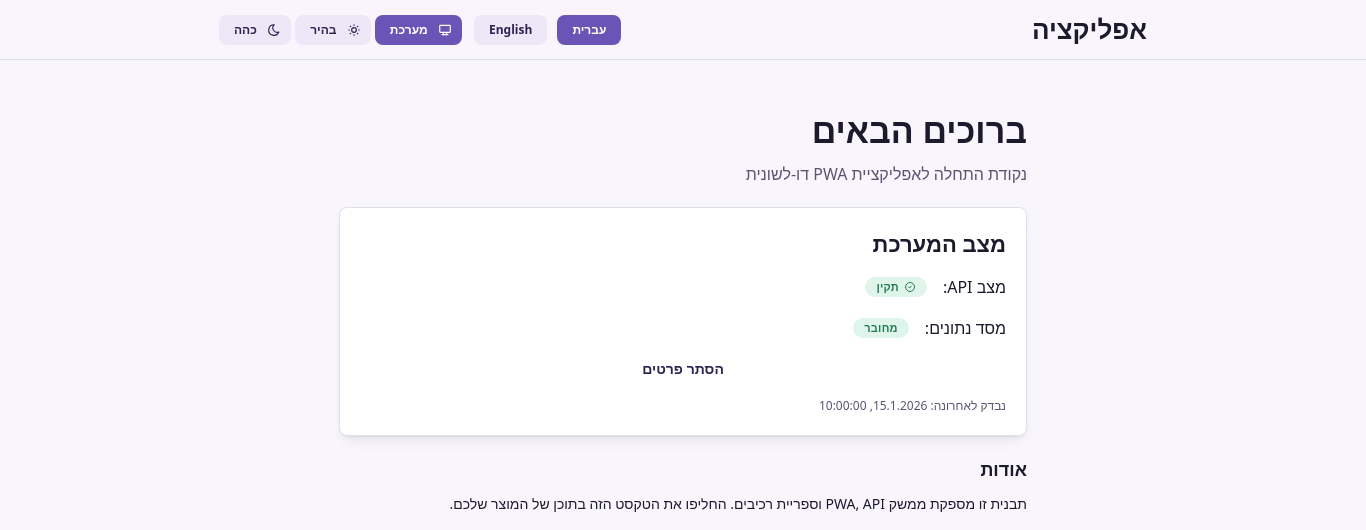
Test: App › switches visible copy from Hebrew to English
The image size is (1366, 530).
Expected: the heading "ברוכים הבאים" is shown, left=812, top=107, right=1027, bottom=153
Step 1. Click the button "English" → click(511, 30), box left=474, top=14, right=547, bottom=44
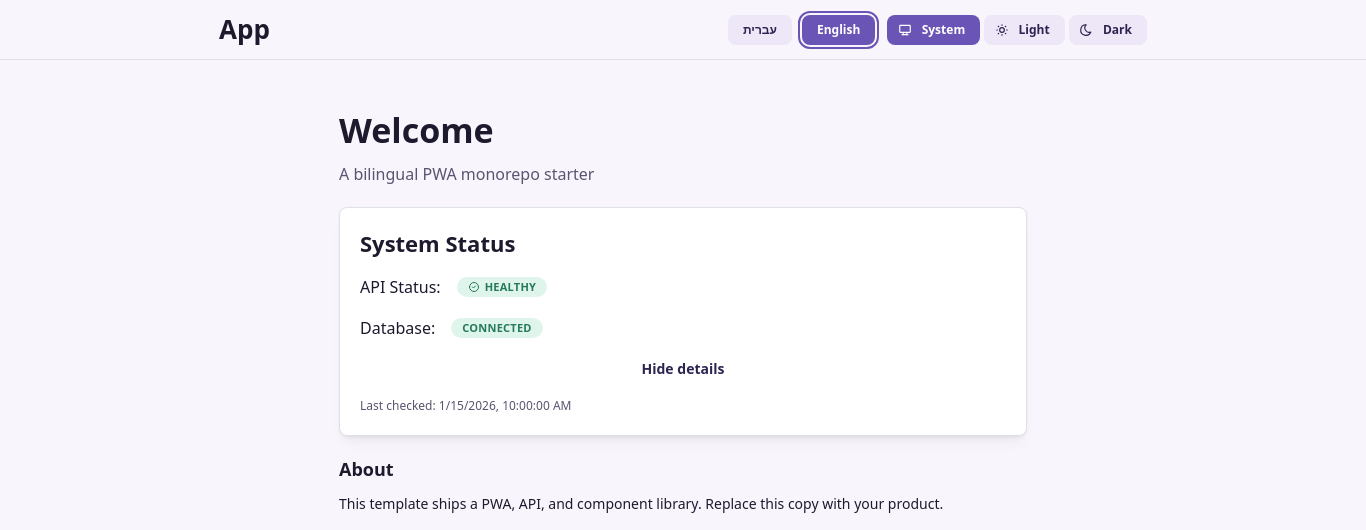
Result: the heading "Welcome" is shown at left=339, top=107, right=494, bottom=153
Result: the element named "Language" is shown at left=728, top=14, right=875, bottom=44
